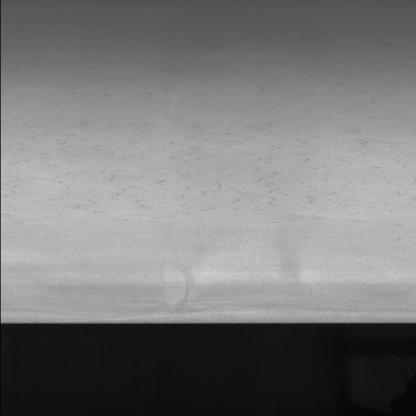silk_spot: (18, 113, 394, 228)
